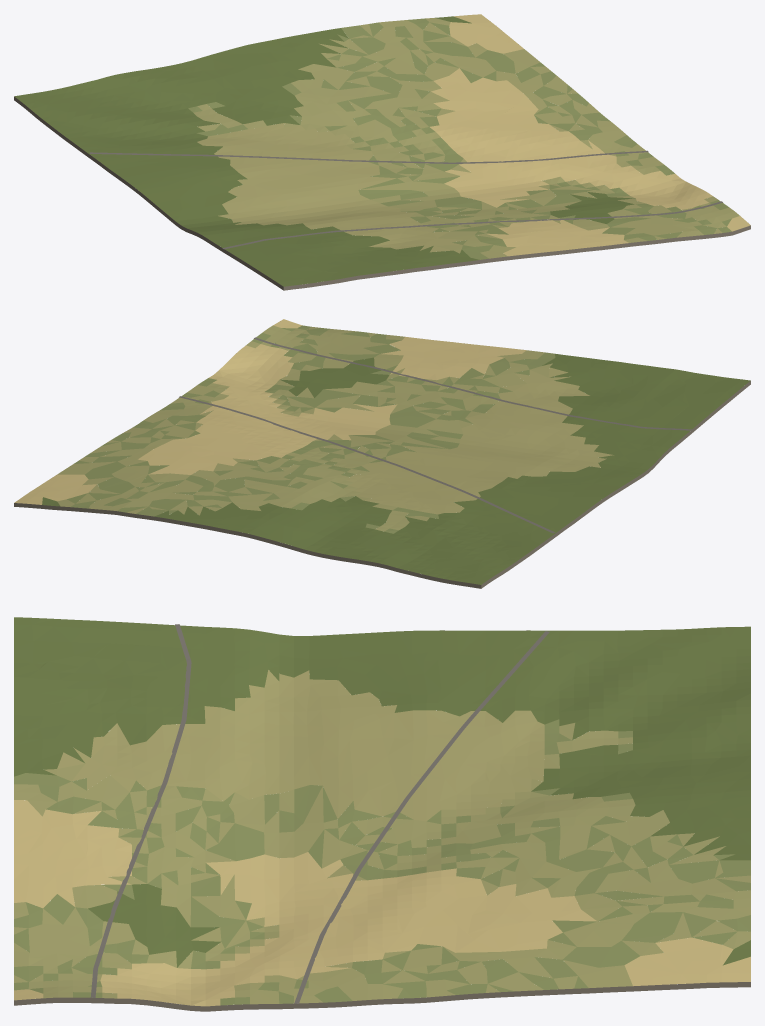
File: parca_+12_-3-uzak.glb
3 views of the same model, one above another, from view 1: azimuth 30°, elevation 25°; view 2: azimuth 150°, elevation 25°; view 3: azimuth 270°, elevation 25° (orthographic). The views are drawn at different scales.
Parts seen in each view (by area): view 1: parca_+12_-3_arazi_uzak, parca_+12_-3_yollar_uzak; view 2: parca_+12_-3_arazi_uzak, parca_+12_-3_yollar_uzak; view 3: parca_+12_-3_arazi_uzak, parca_+12_-3_yollar_uzak.
Part boxes in pixels (<box>): parca_+12_-3_arazi_uzak: <box>14,14,750,290</box>; parca_+12_-3_yollar_uzak: <box>89,150,722,249</box>; parca_+12_-3_arazi_uzak: <box>14,319,750,588</box>; parca_+12_-3_yollar_uzak: <box>179,337,692,533</box>; parca_+12_-3_arazi_uzak: <box>14,617,750,1011</box>; parca_+12_-3_yollar_uzak: <box>90,624,549,1003</box>.
Size of the model in its own units: 1005 by 124 by 1000.
